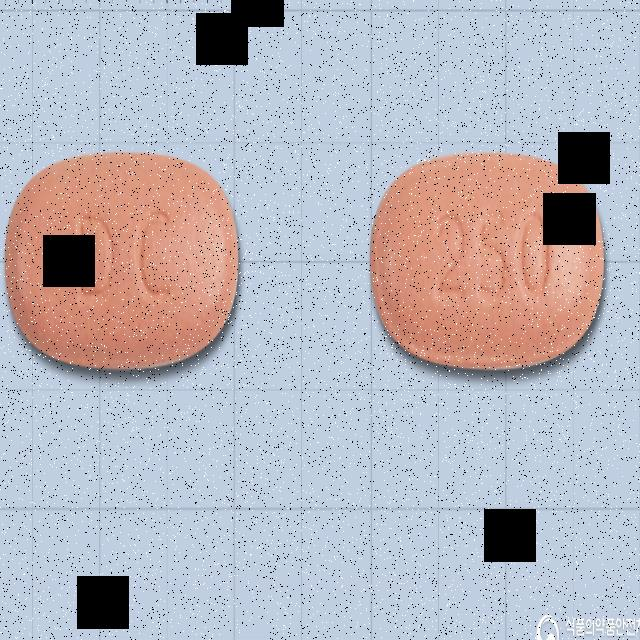Dongkoo Levofloxacin Hydrate Tab-250mg: (3, 152, 241, 374), (369, 150, 605, 372)
